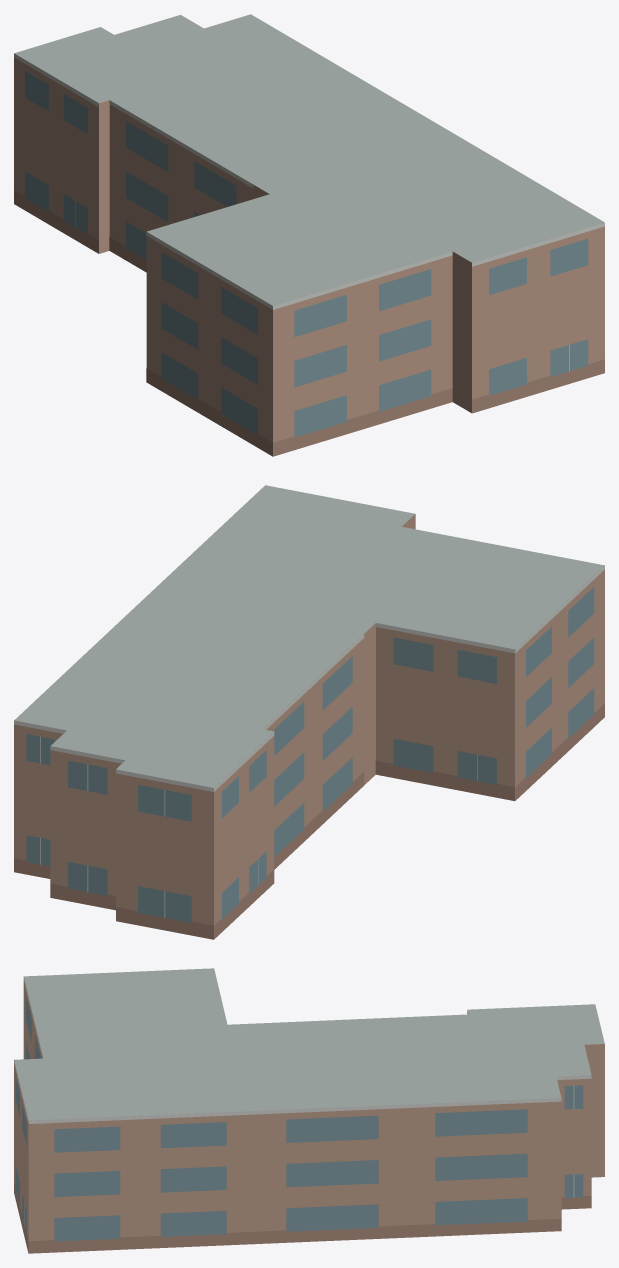
File: survey-upis-32809314.glb
3 views of the same model, one above another, from view 1: azimuth 30°, elevation 25°; view 2: azimuth 150°, elevation 25°; view 3: azimuth 270°, elevation 25° (orthographic). The views are drawn at different scales.
Visible parts, largest first — view 1: survey-upis-32809314.tmp; view 2: survey-upis-32809314.tmp; view 3: survey-upis-32809314.tmp.
Boxes of the visible parts, x1,y1,x2,y2 form: survey-upis-32809314.tmp: (14,14,604,456); survey-upis-32809314.tmp: (14,485,604,939); survey-upis-32809314.tmp: (14,968,604,1253).
Bounding box in the file's own units: 22.45 × 9.15 × 36.82.
